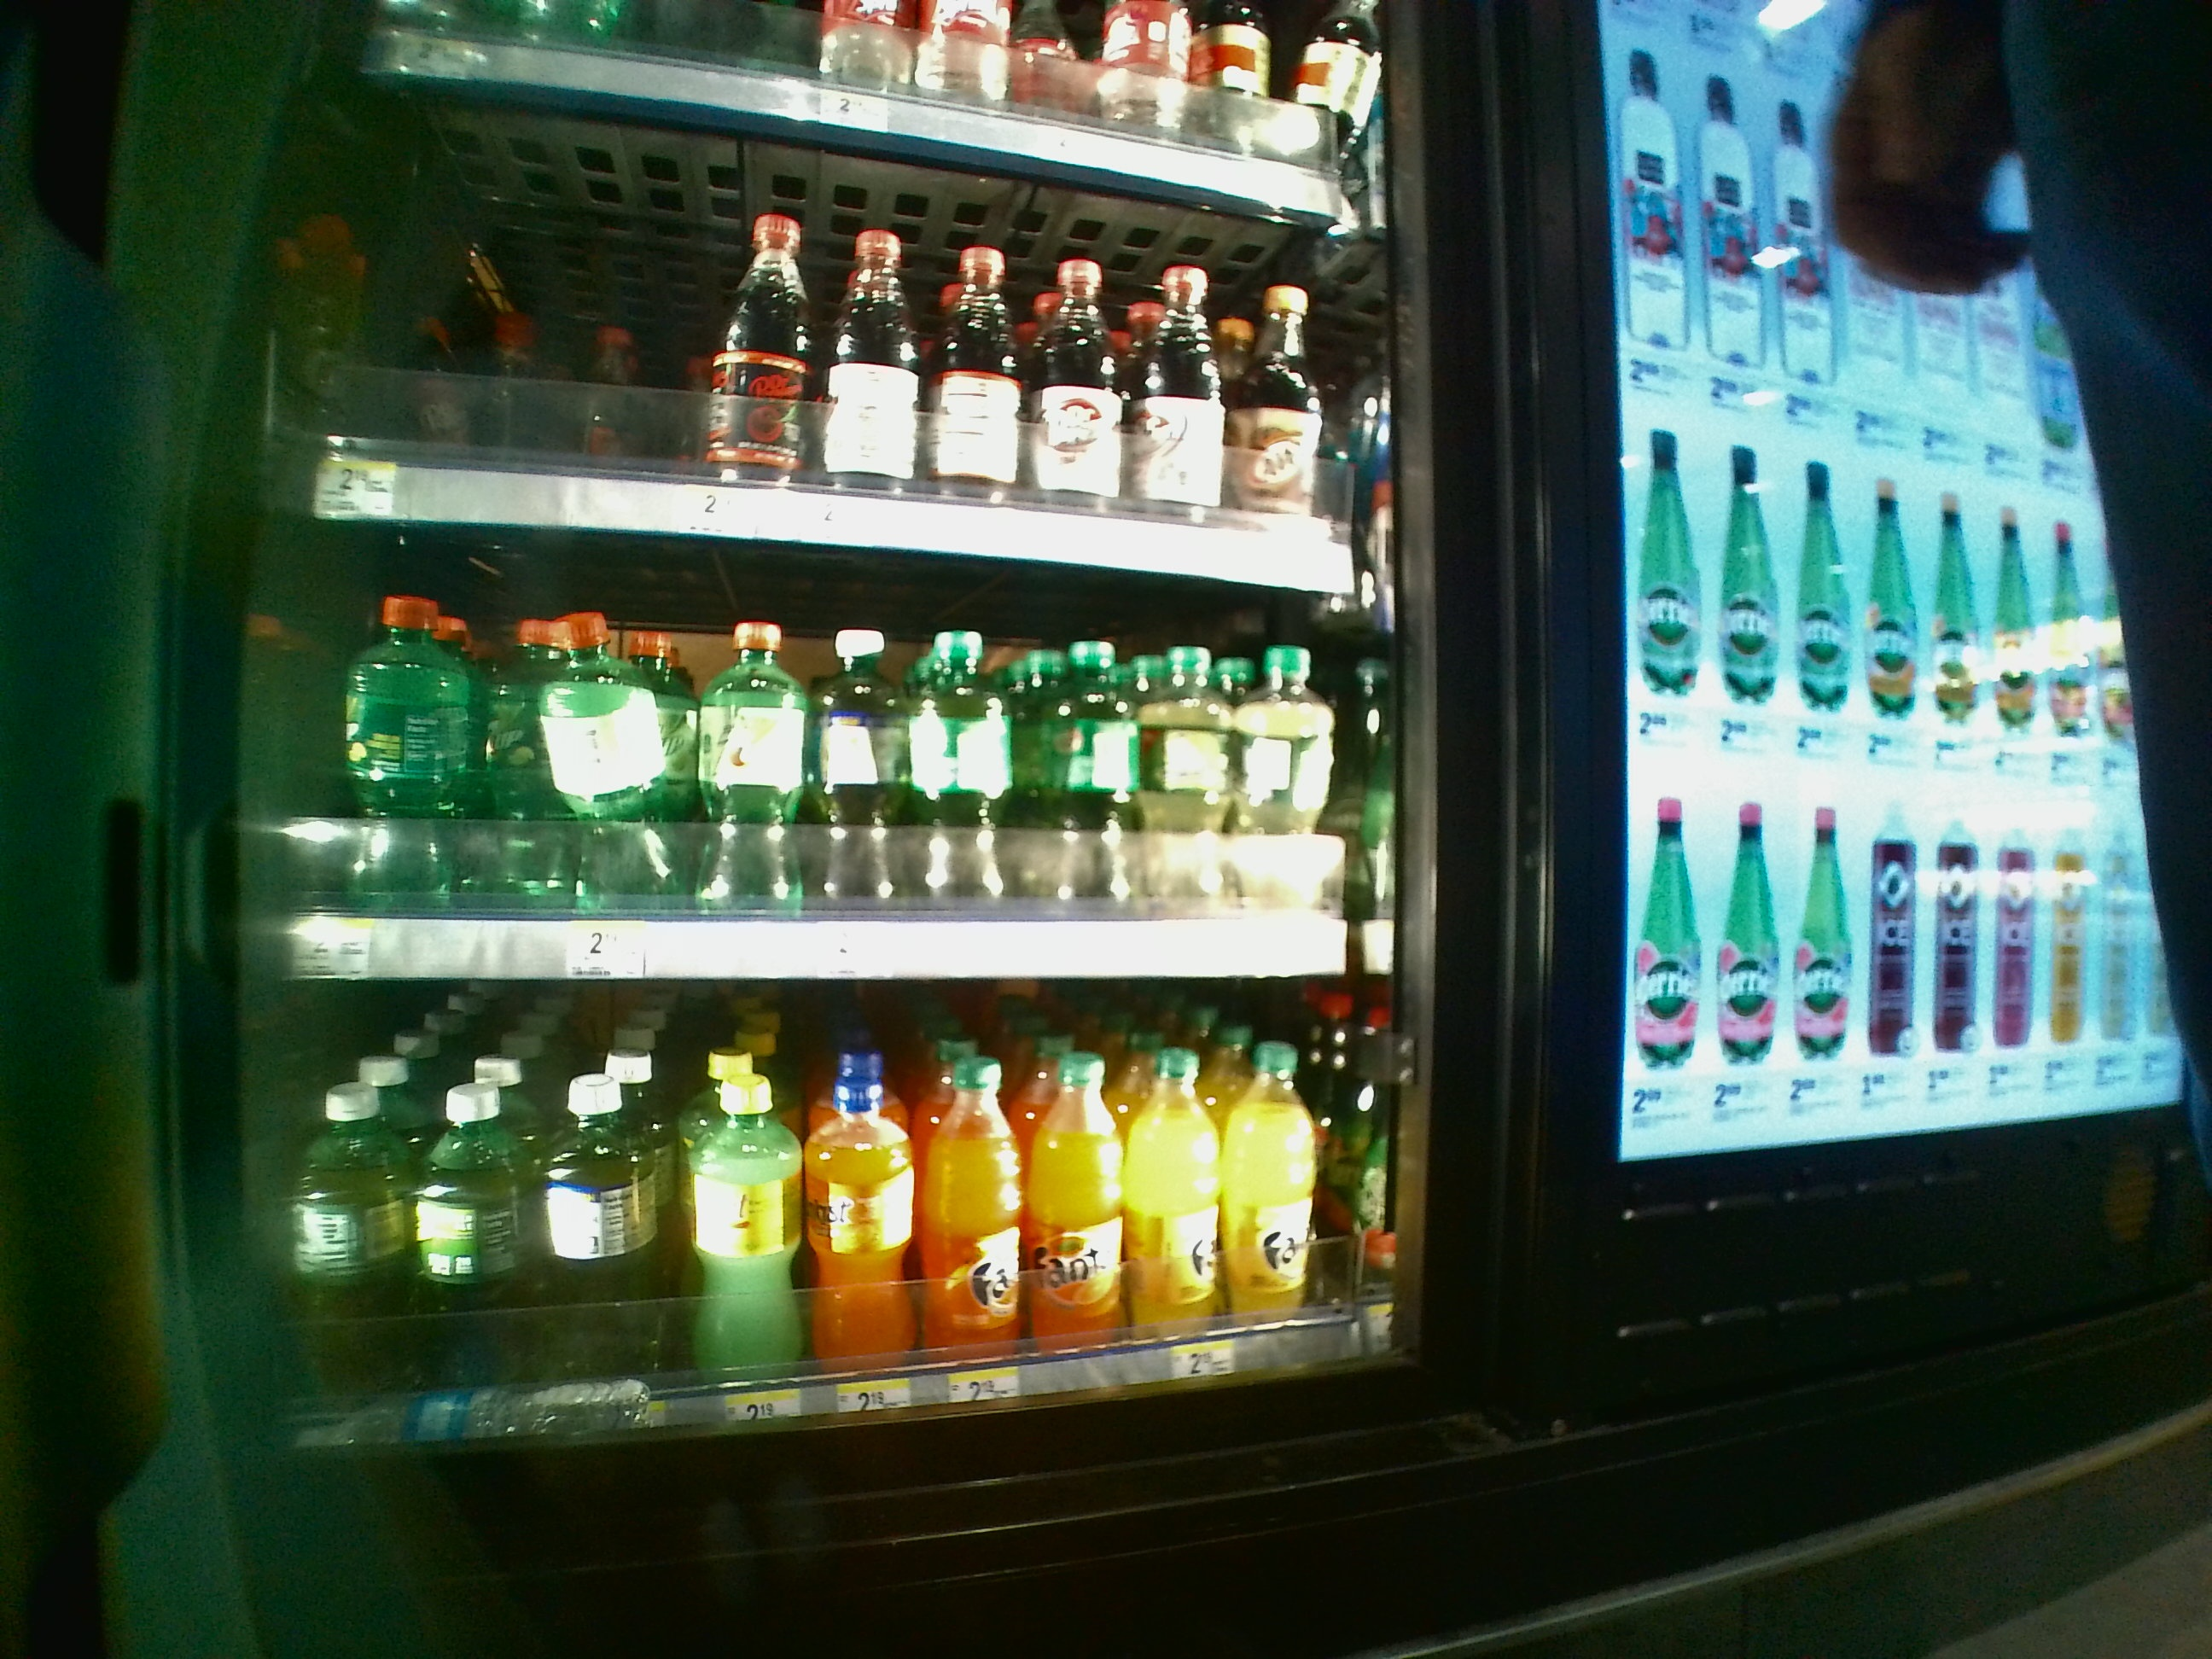shelf: (296, 526, 1366, 978), (298, 993, 1378, 1399)
